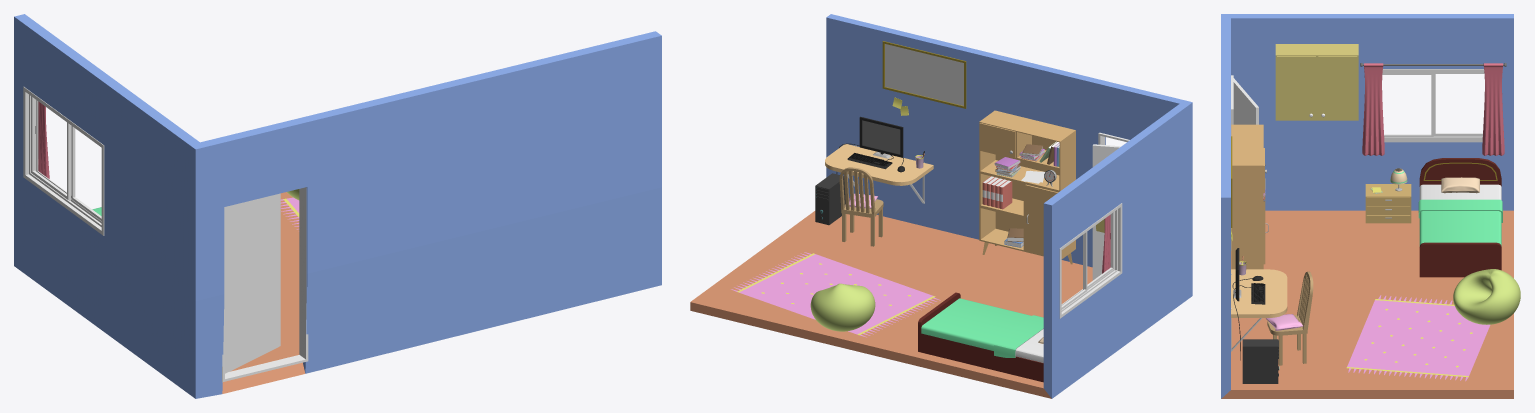
3 renders of one model, left to right at view 1: azimuth 30°, elevation 25°; view 2: azimuth 150°, elevation 25°; view 3: azimuth 270°, elevation 25°, orthographic. The views are drawn at different scales.
Parts seen in each view (by area): view 1: Walls, Door, Window, DoorFrame, Curtains; view 2: Walls, Bookshelf, Bed, Carpet, PhotoFrame, BeanBagChair, Window, Table, Chair, Monitor, CPU, Door; view 3: Walls, Carpet, Bed, HangingCupboard, Bookshelf, Curtains, BeanBagChair, Table, TableBesideBed, Window, CPU, Chair (+5 smaller).
Boxes of the visible parts, box(x1,y1,x2,y2) form: Walls: box(14, 14, 661, 398); Door: box(225, 193, 280, 373); Window: box(23, 86, 104, 235); DoorFrame: box(222, 187, 308, 382); Curtains: box(38, 101, 49, 178); Walls: box(690, 14, 1192, 398); Bookshelf: box(979, 110, 1075, 264); Bed: box(918, 292, 1043, 382); Carpet: box(731, 251, 942, 337); PhotoFrame: box(882, 41, 966, 108); BeanBagChair: box(810, 283, 875, 331); Window: box(1059, 203, 1122, 318); Table: box(825, 144, 933, 203); Chair: box(839, 167, 883, 246); Monitor: box(859, 116, 903, 158); CPU: box(815, 173, 845, 225); Door: box(1092, 144, 1120, 280); Walls: box(1221, 14, 1513, 398); Carpet: box(1345, 295, 1490, 381); Bed: box(1418, 158, 1502, 277); HangingCupboard: box(1275, 44, 1358, 120); Bookshelf: box(1231, 124, 1268, 269); Curtains: box(1362, 63, 1504, 155); BeanBagChair: box(1453, 269, 1520, 324); Table: box(1231, 269, 1287, 351); TableBesideBed: box(1365, 184, 1411, 223); Window: box(1382, 69, 1484, 142); CPU: box(1242, 339, 1279, 383); Chair: box(1267, 271, 1313, 365).
Bounding box in the file's own units: 307 × 159 × 212.
